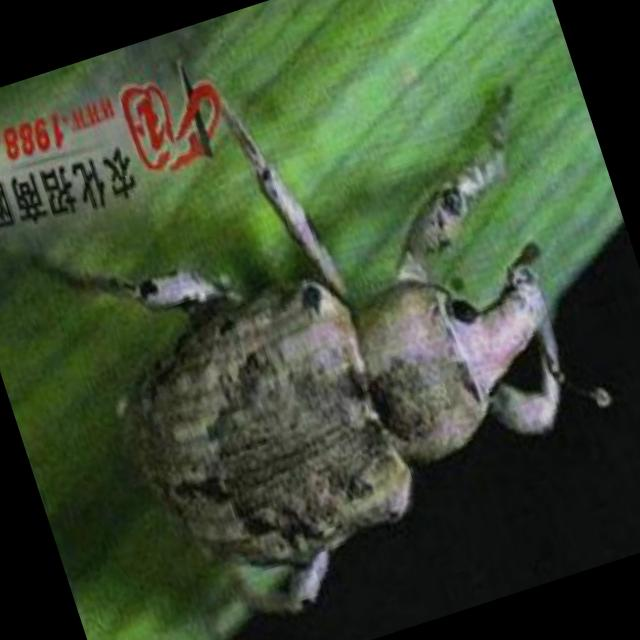rice-bug: (74, 148, 600, 596)
